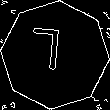L_S: (37, 28, 73, 82)
